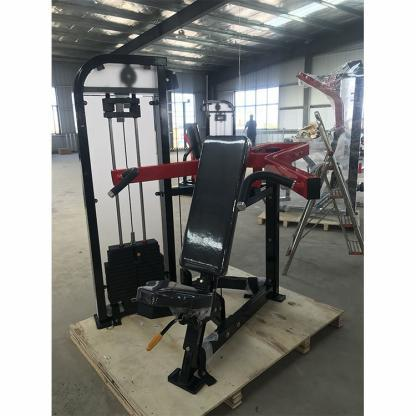shoulder press machine: (79, 136, 321, 394)
